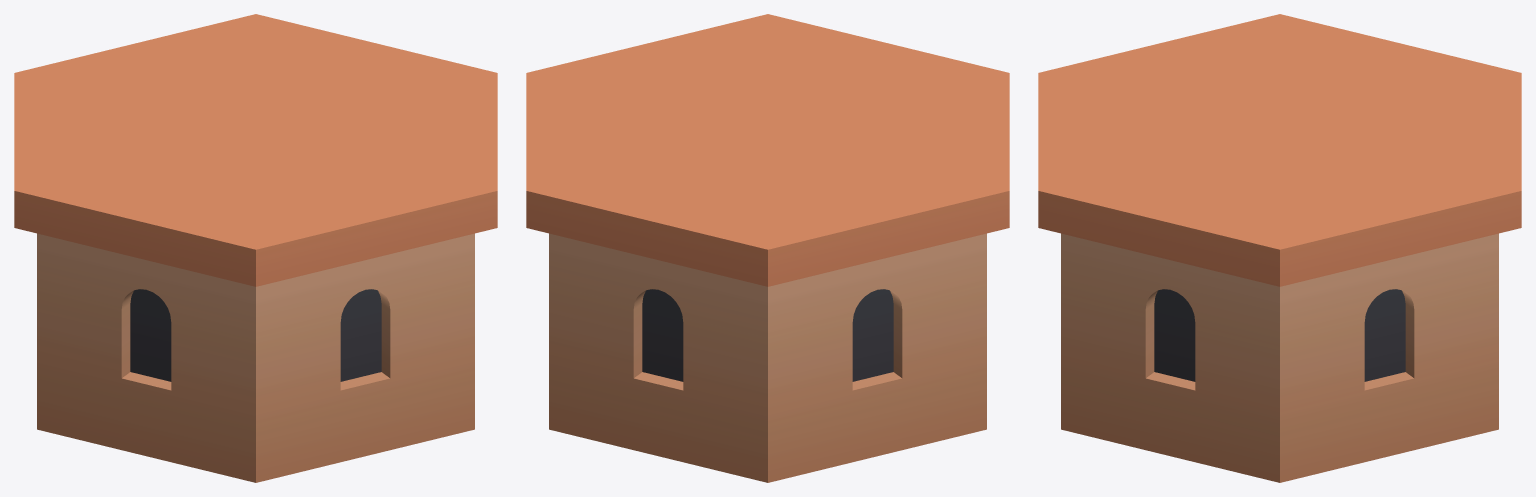
File: kenney-castle-tower-hexagon-mid.glb
The picture shows the model from 3 angles, left to right: view 1: azimuth 30°, elevation 25°; view 2: azimuth 150°, elevation 25°; view 3: azimuth 270°, elevation 25°; orthographic projection.
Visible parts, largest first — view 1: tower-hexagon-mid; view 2: tower-hexagon-mid; view 3: tower-hexagon-mid.
Boxes of the visible parts, x1,y1,x2,y2 form: tower-hexagon-mid: (14,14,497,482); tower-hexagon-mid: (526,14,1009,482); tower-hexagon-mid: (1038,14,1521,482).
Bounding box in the file's own units: 0.9524 × 0.46 × 0.8249.
Materials: 1 (1 with a texture image).
